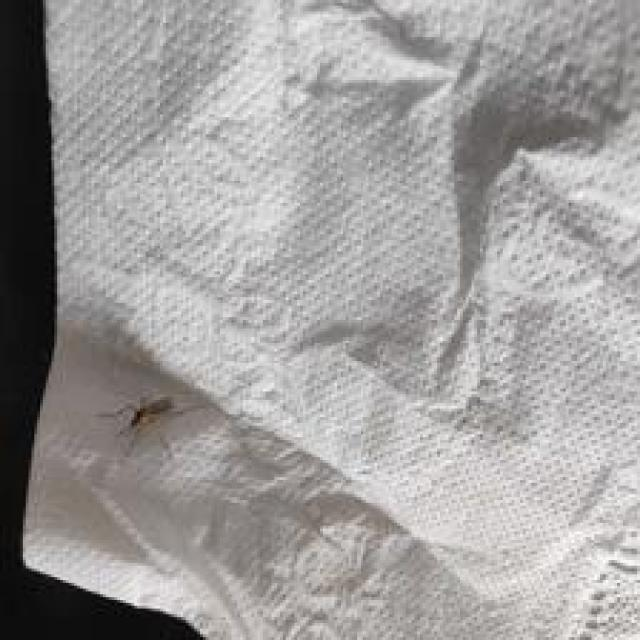Culex: (277, 0, 640, 429)
